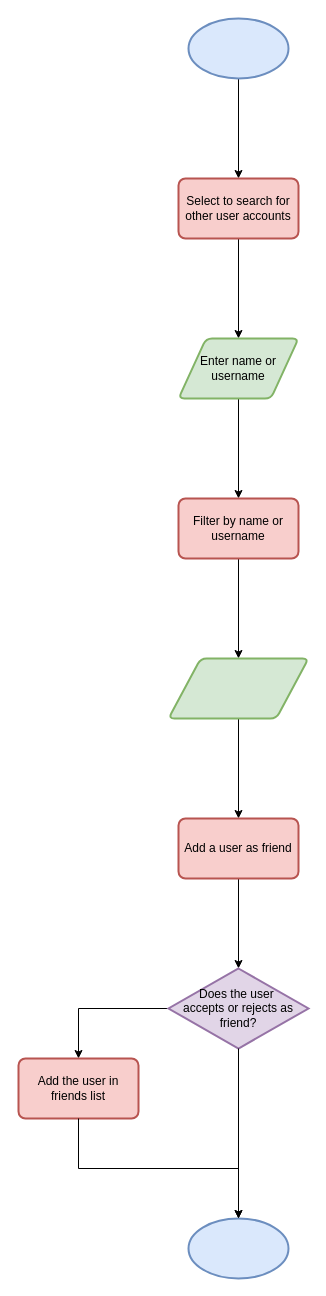
Some shapes in this 326 by 1296 pixel diagram are drawn without their labels. The shapes that lost their labels are listed below. From the top down, each one's centre as x and y in pixels, then its label:
At point 238,48: "Start".
At point 238,688: "List users based on the user or username".
At point 238,1248: "End".
